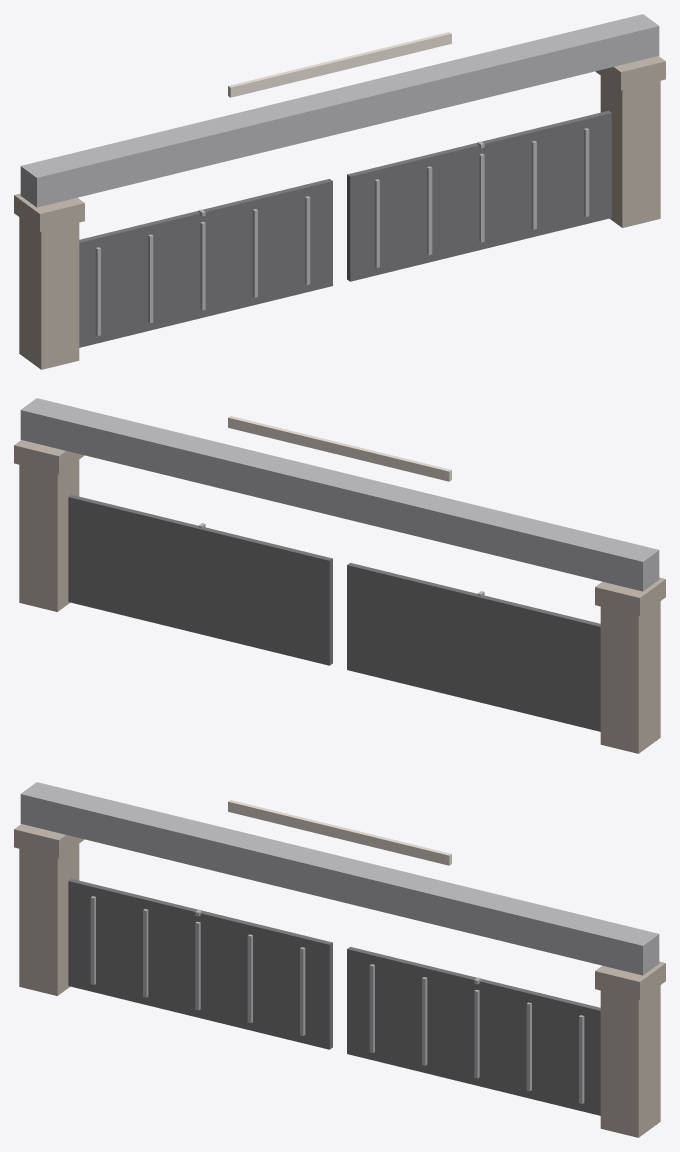
File: entrance-gate.glb
The picture shows the model from 3 angles, top to bottom: view 1: azimuth 30°, elevation 25°; view 2: azimuth 150°, elevation 25°; view 3: azimuth 330°, elevation 25°; orthographic projection.
Visible parts, largest first — view 1: darkMetal, metal, stone, render; view 2: darkMetal, metal, stone, render; view 3: darkMetal, metal, stone, render.
Boxes of the visible parts, x1=… form: darkMetal: x1=79, y1=110, x2=611, y2=347; metal: x1=20, y1=14, x2=659, y2=335; stone: x1=14, y1=56, x2=665, y2=369; render: x1=228, y1=32, x2=451, y2=97; darkMetal: x1=68, y1=494, x2=600, y2=731; metal: x1=20, y1=398, x2=659, y2=596; stone: x1=14, y1=440, x2=665, y2=753; render: x1=228, y1=416, x2=451, y2=481; darkMetal: x1=68, y1=878, x2=600, y2=1115; metal: x1=20, y1=782, x2=659, y2=1103; stone: x1=14, y1=824, x2=665, y2=1137; render: x1=228, y1=800, x2=451, y2=865.
Bounding box in the file's own units: 18.1 × 6.26 × 1.3.
